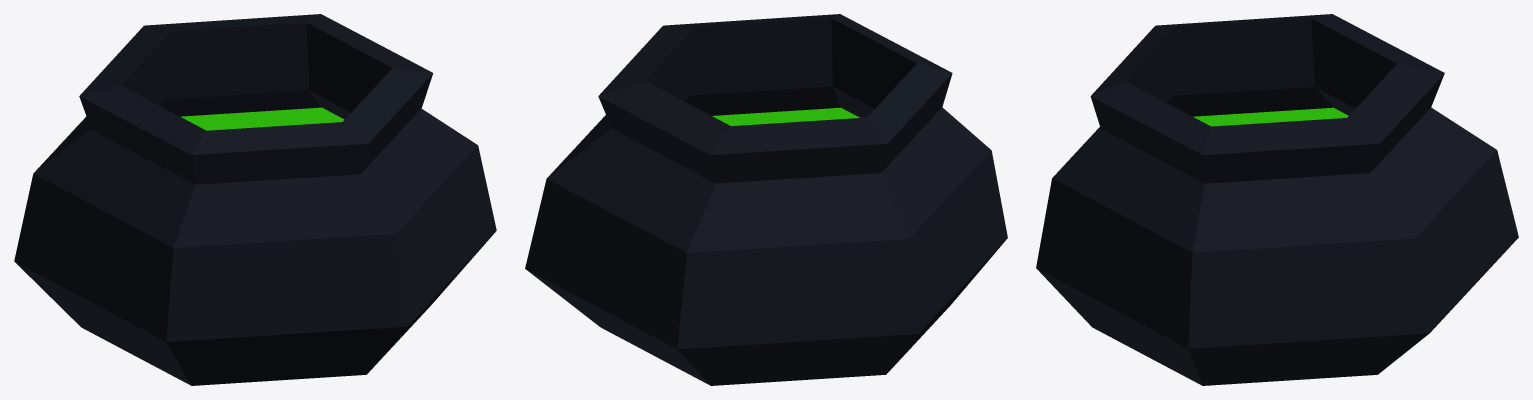
Rendered from CauldronB.fbx.
The picture shows the model from 3 angles, left to right: view 1: azimuth 30°, elevation 25°; view 2: azimuth 150°, elevation 25°; view 3: azimuth 270°, elevation 25°; orthographic projection.
Visible parts, largest first — view 1: CauldronB; view 2: CauldronB; view 3: CauldronB.
Boxes of the visible parts, <box> form: CauldronB: <box>14,14,496,385</box>; CauldronB: <box>525,14,1007,385</box>; CauldronB: <box>1036,14,1518,385</box>.
Size of the model in its own units: 26.57 by 15.64 by 28.22.
